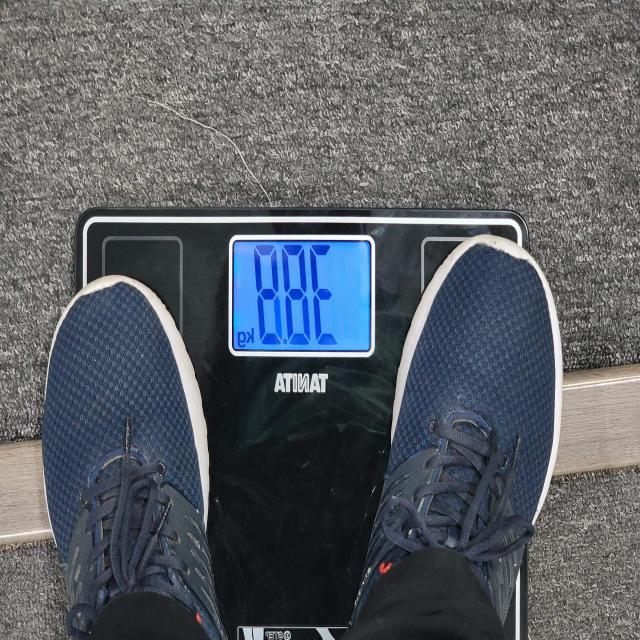ws: (182, 218, 380, 459)
